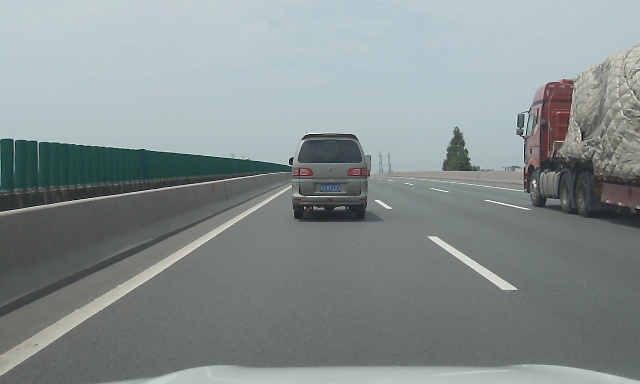car: (289, 133, 368, 220)
truck: (515, 44, 640, 218)
